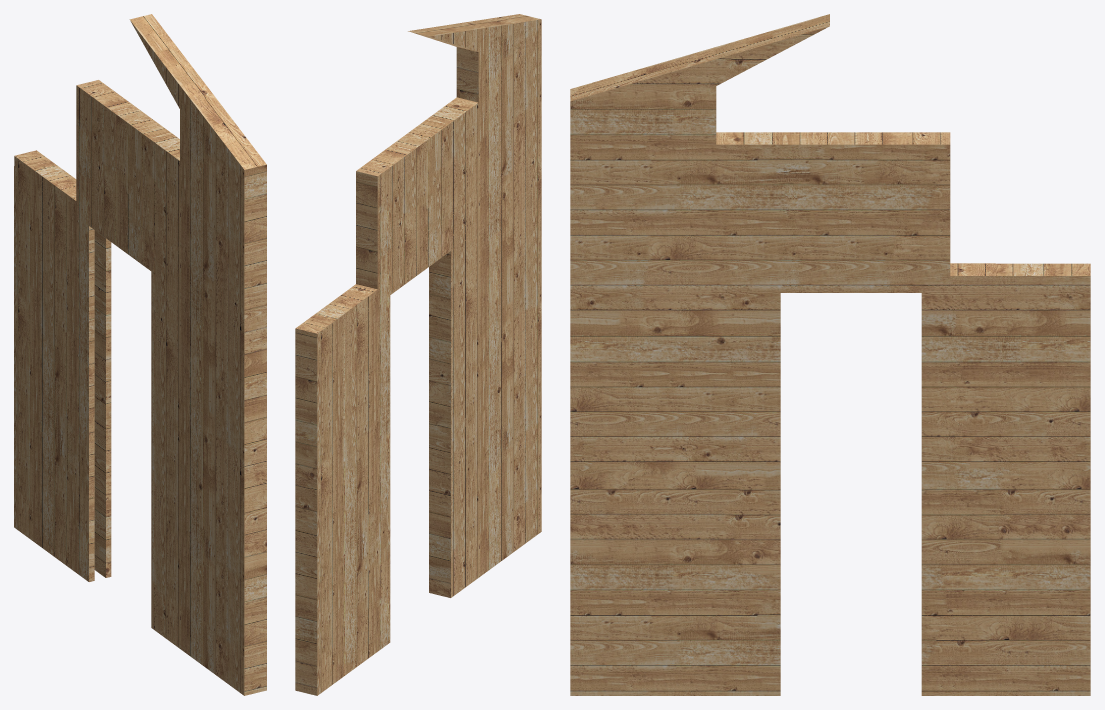
The model's file is InnerWallWest.glb.
3 renders of one model, left to right at view 1: azimuth 30°, elevation 25°; view 2: azimuth 150°, elevation 25°; view 3: azimuth 270°, elevation 25°, orthographic. The views are drawn at different scales.
Parts seen in each view (by area): view 1: Pared1; view 2: Pared1; view 3: Pared1.
Boxes of the visible parts, box(x1,y1,x2,y2) form: Pared1: box(14, 14, 266, 695); Pared1: box(295, 14, 541, 695); Pared1: box(570, 14, 1090, 695).
Size of the model in its own units: 12.76 by 321 by 226.
1 material, 1 textured.
